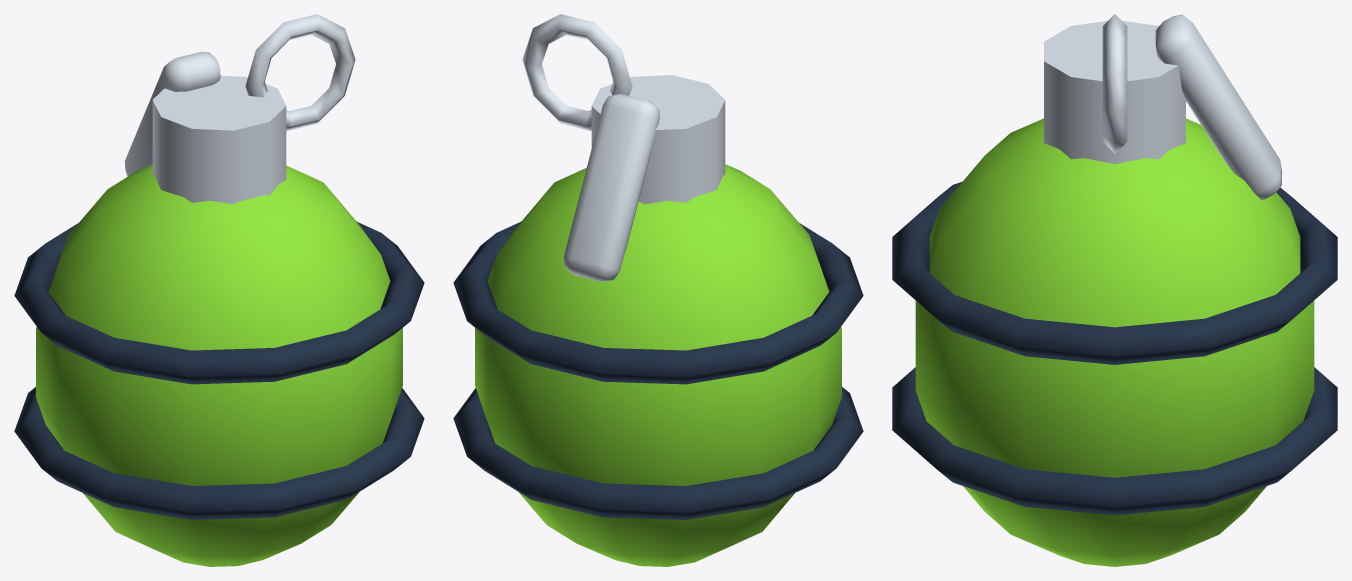
The model's file is Grenade.fbx.
3 views of the same model, side by side, from view 1: azimuth 30°, elevation 25°; view 2: azimuth 150°, elevation 25°; view 3: azimuth 270°, elevation 25° (orthographic). The views are drawn at different scales.
Parts seen in each view (by area): view 1: Grenade; view 2: Grenade; view 3: Grenade.
Part boxes in pixels (x1,y1,x2,y2): Grenade: [14, 14, 424, 566]; Grenade: [453, 14, 863, 566]; Grenade: [892, 14, 1337, 566].
Size of the model in its own units: 0.11 by 0.1517 by 0.1072.
